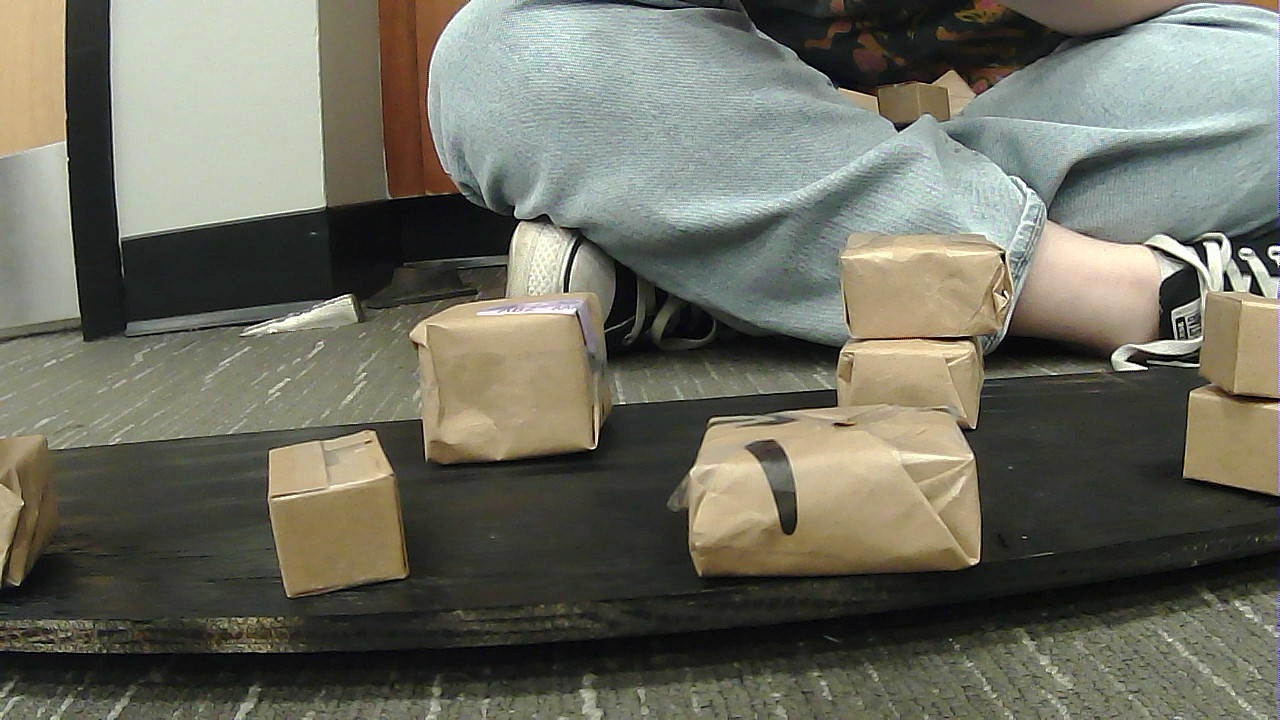package: (681, 415, 1002, 567), (384, 287, 623, 452), (250, 430, 418, 593), (830, 226, 1008, 334), (832, 342, 996, 425), (1171, 373, 1277, 493), (0, 434, 72, 588), (1193, 289, 1275, 398)
stacked: (827, 221, 1021, 424), (1142, 284, 1274, 497)
